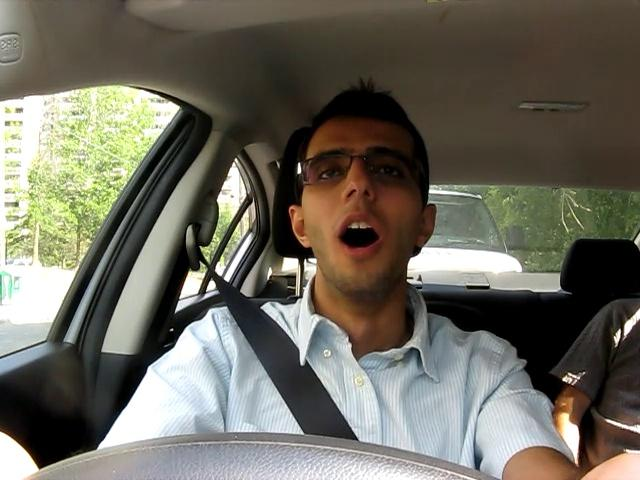close_eyeL: (304, 159, 355, 189)
close_eyeR: (365, 158, 419, 188)
yawn: (320, 215, 397, 260)
